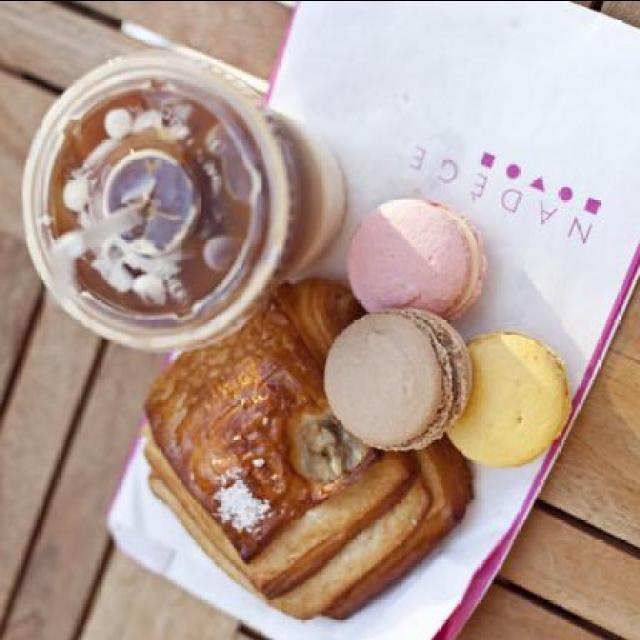Macaron: (324, 187, 604, 462)
